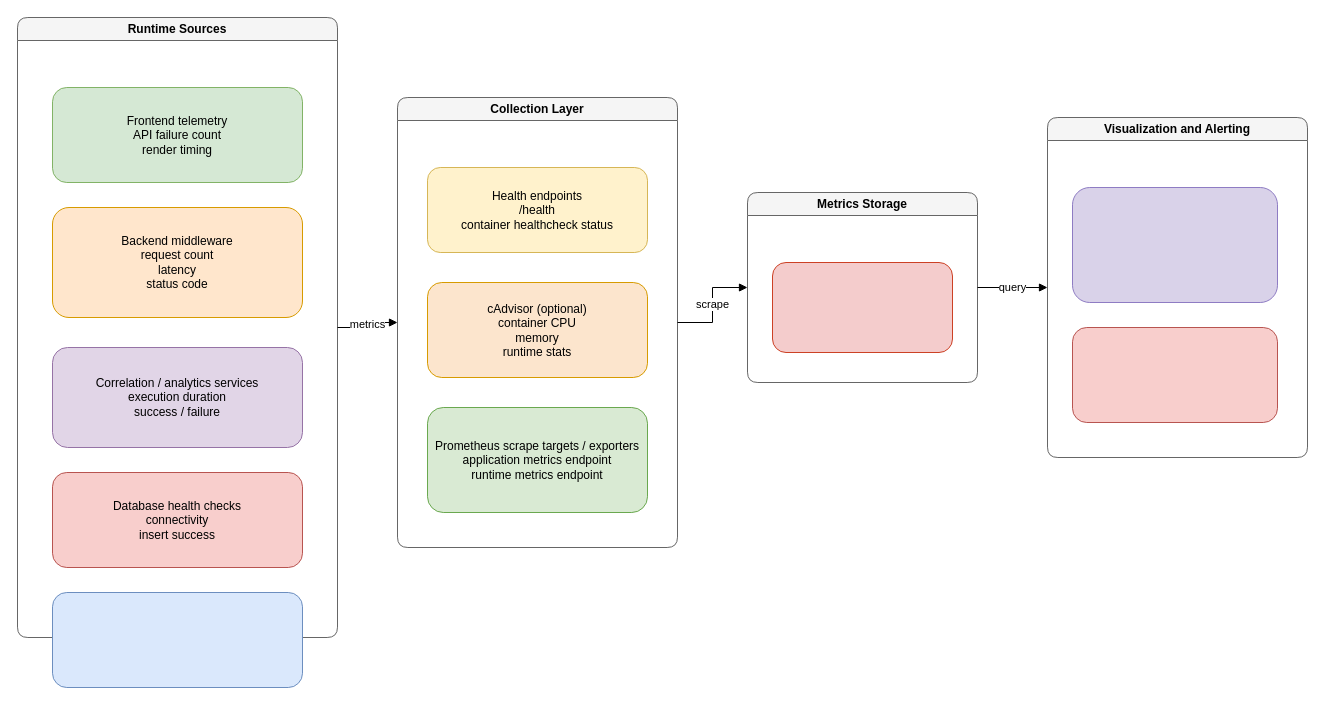
The diagram is 1325 pixels wide and 705 high, and some of its shapes have lost their labels. The centre of each missing label's shape, as x and y in pixels:
"Alert rules high latency 5xx spike missing route poll failure" goes at point (1175, 374).
"Grafana dashboard API health latency error rate container health" goes at point (1175, 244).
"Prometheus time-series metrics store scrape + retain + query" goes at point (862, 307).
"ThingSpeak ingestion metrics poll success retry count rows inserted" goes at point (177, 640).
